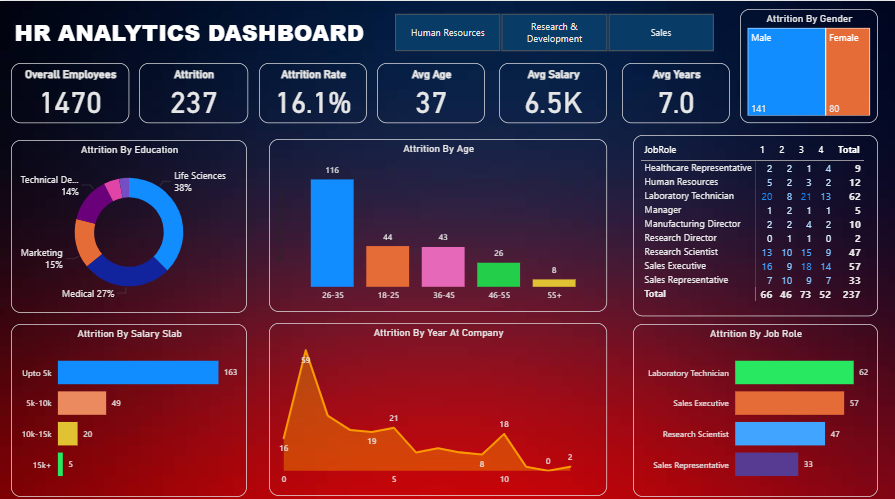

Layout of this report page (visuals, bound fields, positions):
{"tool":"powerbi","page":{"name":"Page 1","canvas":[1280,720],"ordinal":0},"visuals":[{"type":"card","title":"Overall Employees","fields":{"Values":["CountNonNull(HR_Analytics.EmpID)"]},"box":[17,87.9,168.7,86.5],"z":0},{"type":"card","title":"Attrition","fields":{"Values":["Sum(HR_Analytics.AttritionCount)"]},"box":[199.8,87.9,155.9,86.5],"z":1000},{"type":"card","title":"Attrition Rate","fields":{"Values":["HR_Analytics.AttritationRate"]},"box":[371.4,88.6,154.3,85.7],"z":2000},{"type":"card","title":"Avg Age","fields":{"Values":["Avg(HR_Analytics.Age)"]},"box":[540,88.6,154.3,85.7],"z":3000},{"type":"card","title":"Avg Salary","fields":{"Values":["Avg(HR_Analytics.MonthlyIncome)"]},"box":[714.3,88.6,154.3,85.7],"z":4000},{"type":"card","title":"Avg Years","fields":{"Values":["Avg(HR_Analytics.YearsAtCompany)"]},"box":[890,88.6,154.3,85.7],"z":5000},{"type":"donutChart","title":"Attrition By Education","fields":{"Category":["HR_Analytics.EducationField"],"Y":["Sum(HR_Analytics.AttritionCount)"]},"box":[17.1,198.6,337.1,247.1],"z":6000},{"type":"columnChart","title":"Attrition By Age","fields":{"Category":["HR_Analytics.AgeGroup"],"Y":["Sum(HR_Analytics.AttritionCount)"]},"box":[385.7,197.1,482.9,247.1],"z":7000},{"type":"pivotTable","fields":{"Rows":["HR_Analytics.JobRole"],"Columns":["HR_Analytics.JobSatisfaction"],"Values":["Sum(HR_Analytics.AttritionCount)"]},"box":[905.7,191.4,350,258.6],"z":8000},{"type":"barChart","title":"Attrition By Salary Slab","fields":{"Category":["HR_Analytics.SalarySlab"],"Y":["Sum(HR_Analytics.AttritionCount)"]},"box":[17.1,461.4,337.1,247.1],"z":9000},{"type":"barChart","title":"Attrition By Job Role","fields":{"Y":["Sum(HR_Analytics.AttritionCount)"],"Category":["HR_Analytics.JobRole"]},"box":[905.7,461.4,350,247.1],"z":10000},{"type":"areaChart","title":"Attrition By Year At Company","fields":{"Category":["HR_Analytics.YearsAtCompany"],"Y":["Sum(HR_Analytics.AttritionCount)"]},"box":[385.7,460,482.9,247.1],"z":11000},{"type":"treemap","title":"Attrition By Gender","fields":{"Group":["HR_Analytics.Gender"],"Values":["Sum(HR_Analytics.AttritionCount)"]},"box":[1058.3,11.7,196.7,163.3],"z":12000},{"type":"slicer","fields":{"Values":["HR_Analytics.Department"]},"box":[540,11.7,505,66.7],"z":13000},{"type":"textbox","box":[17.1,17.1,522.9,61.4],"z":14000}]}

Visuals, with their boxes in screenshot pixels (x1, y1, x2, y2), scaled from the page's 1280x720 canvas onto the 895x499 screenshot:
"Overall Employees" card: bbox=(12, 61, 130, 121)
"Attrition" card: bbox=(140, 61, 249, 121)
"Attrition Rate" card: bbox=(260, 61, 368, 121)
"Avg Age" card: bbox=(378, 61, 485, 121)
"Avg Salary" card: bbox=(499, 61, 607, 121)
"Avg Years" card: bbox=(622, 61, 730, 121)
"Attrition By Education" donutChart: bbox=(12, 138, 248, 309)
"Attrition By Age" columnChart: bbox=(270, 137, 607, 308)
pivotTable - HR_Analytics.JobRole x HR_Analytics.JobSatisfaction: bbox=(633, 133, 878, 312)
"Attrition By Salary Slab" barChart: bbox=(12, 320, 248, 491)
"Attrition By Job Role" barChart: bbox=(633, 320, 878, 491)
"Attrition By Year At Company" areaChart: bbox=(270, 319, 607, 490)
"Attrition By Gender" treemap: bbox=(740, 8, 878, 121)
slicer - HR_Analytics.Department: bbox=(378, 8, 731, 54)
textbox: bbox=(12, 12, 378, 54)
